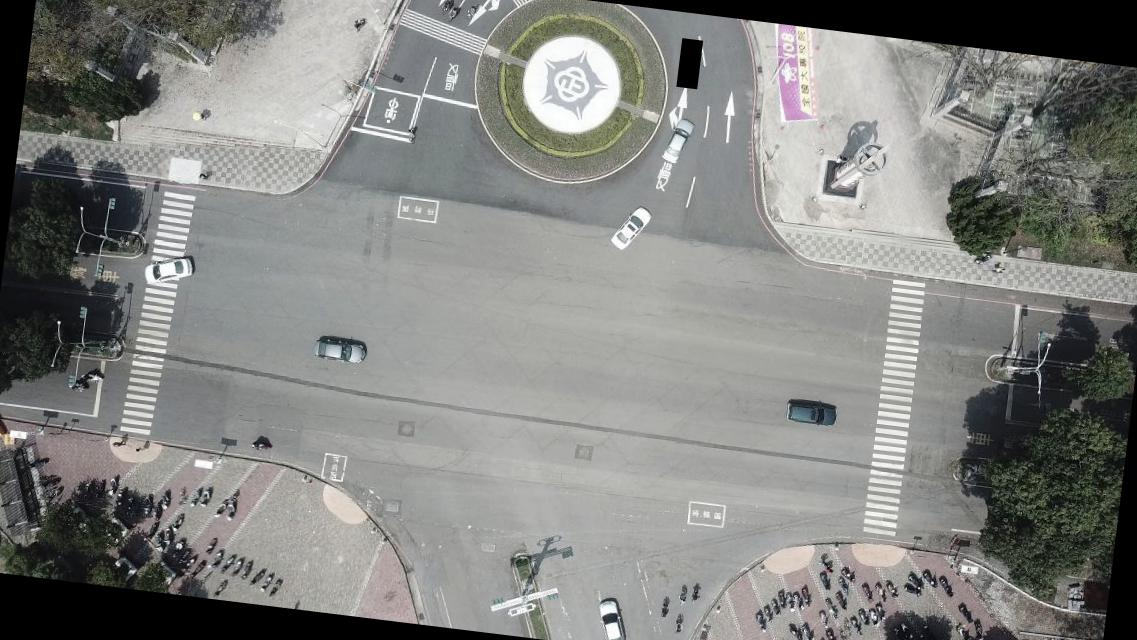vehicle: (609, 202, 652, 255), (141, 251, 197, 290), (659, 112, 694, 166), (310, 336, 366, 365), (786, 398, 838, 428), (593, 598, 631, 639)
